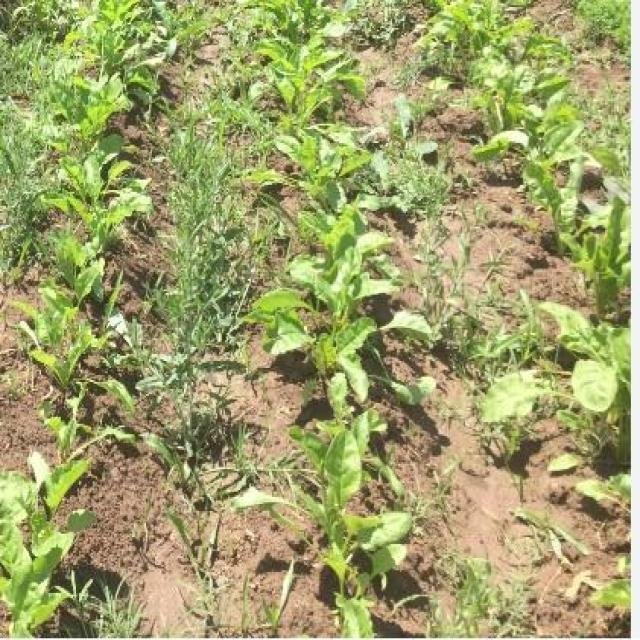row: (325, 0, 632, 640), (56, 0, 315, 640), (501, 0, 634, 247)
